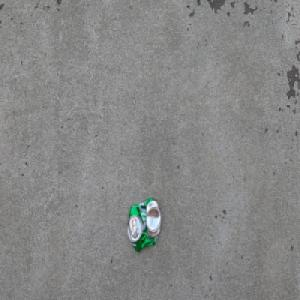SodaCan: (126, 196, 161, 253)
